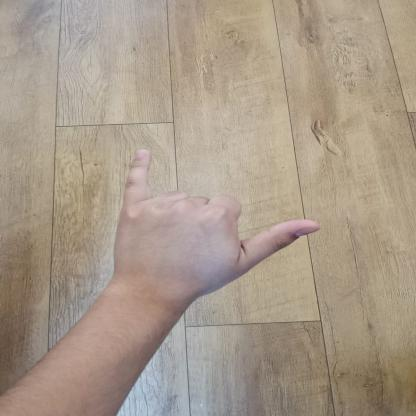Y: (109, 143, 330, 308)
